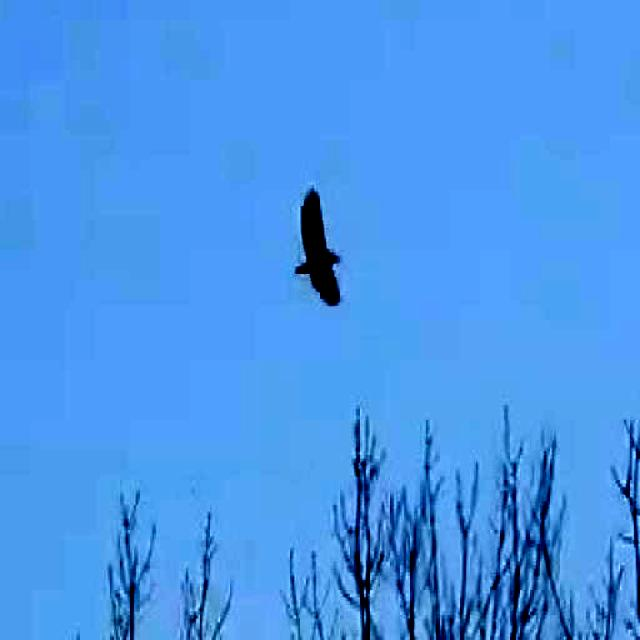airplane: (278, 181, 350, 318)
